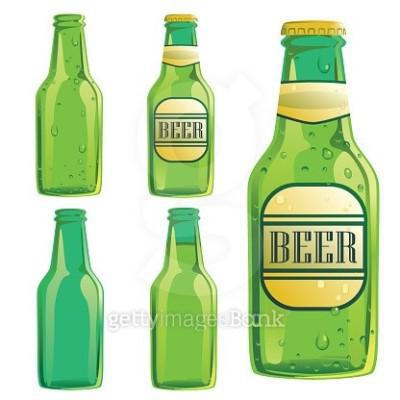beer: (245, 19, 381, 385)
